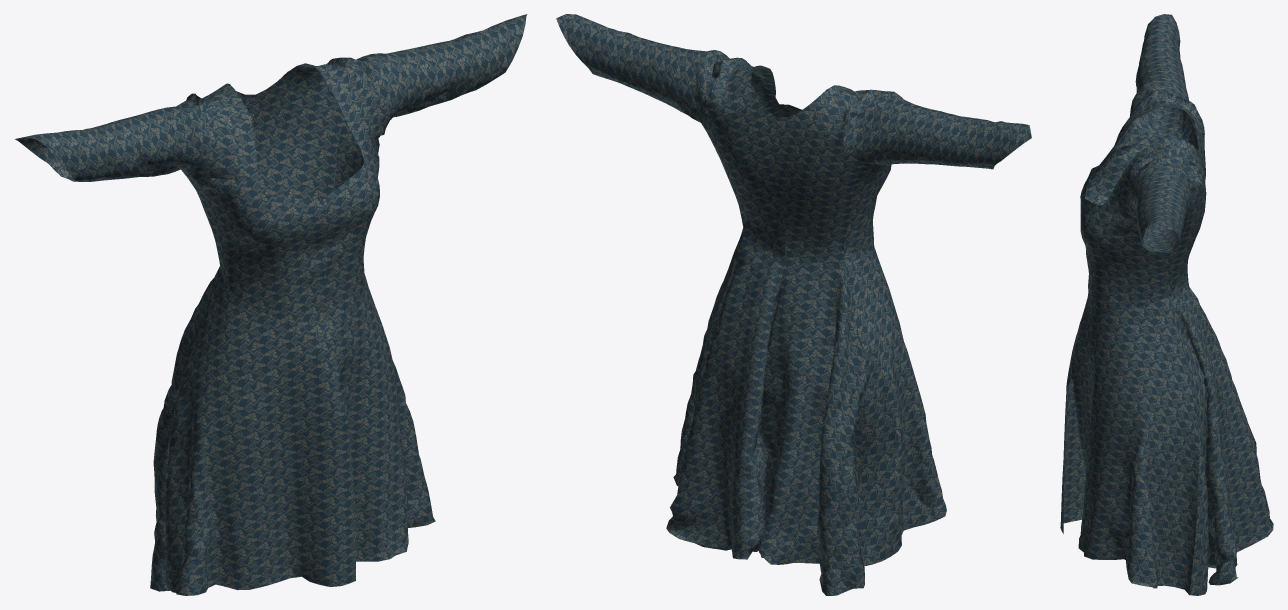
3 renders of one model, left to right at view 1: azimuth 30°, elevation 25°; view 2: azimuth 150°, elevation 25°; view 3: azimuth 270°, elevation 25°, orthographic. The views are drawn at different scales.
Visible parts, largest first — view 1: Pattern_98228347, Pattern_98228349, Pattern_98228346, Pattern_98228348, Pattern_98267209, Pattern_98248980, Pattern_98267210, Pattern_98248981, Pattern_98246021, Pattern_98264648, Pattern_98199751, Pattern_98199750; view 2: Pattern_98248981, Pattern_98248980, Pattern_98228347, Pattern_98267209, Pattern_98267210, Pattern_98246021, Pattern_98264648, Pattern_98228349, Pattern_98228346, Pattern_98228348, Pattern_98199750, Pattern_98199751; view 3: Pattern_98228346, Pattern_98248980, Pattern_98228348, Pattern_98246020, Pattern_98267210, Pattern_98267209, Pattern_98228349, Pattern_98228347, Pattern_98264647, Pattern_98262702, Pattern_98199750, Pattern_98199751 (+1 smaller).
Boxes of the visible parts, x1,y1,x2,y2 form: Pattern_98228347: [166, 266, 355, 595]; Pattern_98228349: [181, 111, 330, 340]; Pattern_98228346: [331, 274, 435, 561]; Pattern_98228348: [323, 76, 391, 339]; Pattern_98267209: [15, 93, 209, 181]; Pattern_98248980: [253, 63, 344, 199]; Pattern_98267210: [324, 14, 527, 118]; Pattern_98248981: [153, 91, 255, 462]; Pattern_98246021: [164, 470, 186, 592]; Pattern_98264648: [150, 434, 170, 591]; Pattern_98199751: [202, 83, 251, 118]; Pattern_98199750: [297, 57, 359, 92]; Pattern_98248981: [759, 97, 869, 564]; Pattern_98248980: [666, 82, 784, 559]; Pattern_98228347: [844, 247, 946, 520]; Pattern_98267209: [842, 89, 1031, 169]; Pattern_98267210: [556, 14, 729, 122]; Pattern_98246021: [858, 388, 934, 566]; Pattern_98264648: [817, 404, 865, 595]; Pattern_98228349: [844, 162, 891, 253]; Pattern_98228346: [680, 228, 784, 439]; Pattern_98228348: [701, 58, 801, 127]; Pattern_98199750: [713, 57, 769, 89]; Pattern_98199751: [818, 85, 869, 118]; Pattern_98228346: [1071, 295, 1196, 582]; Pattern_98248980: [1171, 142, 1273, 585]; Pattern_98228348: [1080, 152, 1187, 322]; Pattern_98246020: [1132, 423, 1198, 594]; Pattern_98267210: [1130, 155, 1202, 252]; Pattern_98267209: [1130, 14, 1196, 140]; Pattern_98228349: [1080, 96, 1187, 319]; Pattern_98228347: [1060, 308, 1086, 533]; Pattern_98264647: [1195, 439, 1220, 584]; Pattern_98262702: [1189, 543, 1208, 595]; Pattern_98199750: [1139, 138, 1189, 161]; Pattern_98199751: [1134, 91, 1194, 119].
Size of the model in its own units: 0.9411 by 0.9007 by 0.3925.
1 material, 1 textured.
